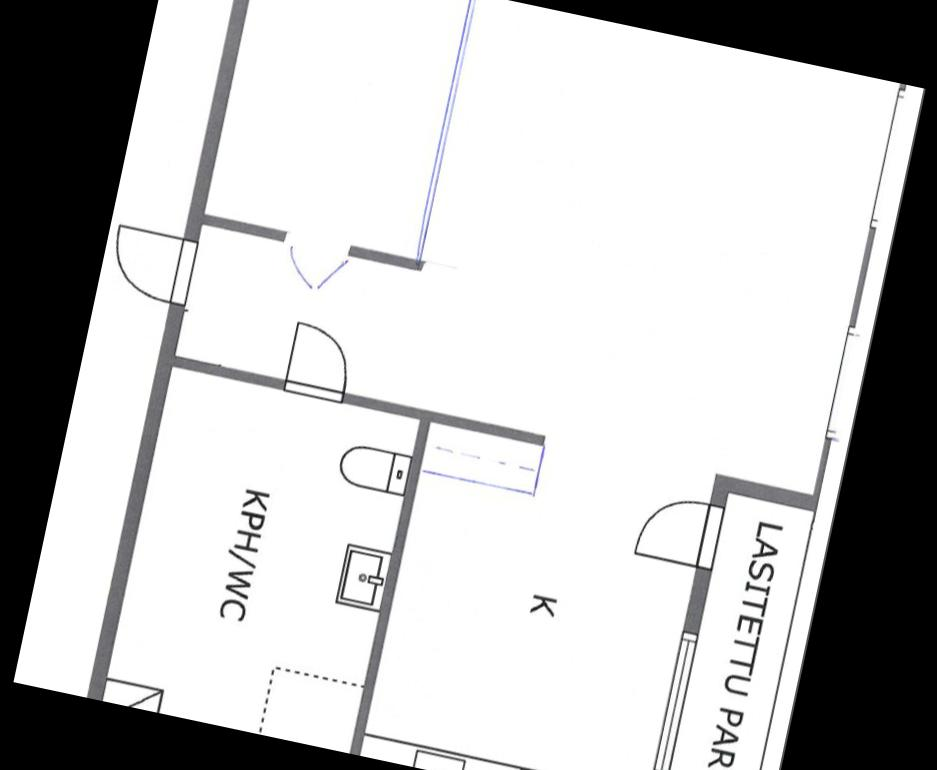door: (624, 480, 733, 576), (103, 217, 204, 309), (277, 311, 362, 406)
window: (642, 620, 704, 770), (857, 80, 913, 236), (816, 316, 864, 446)
